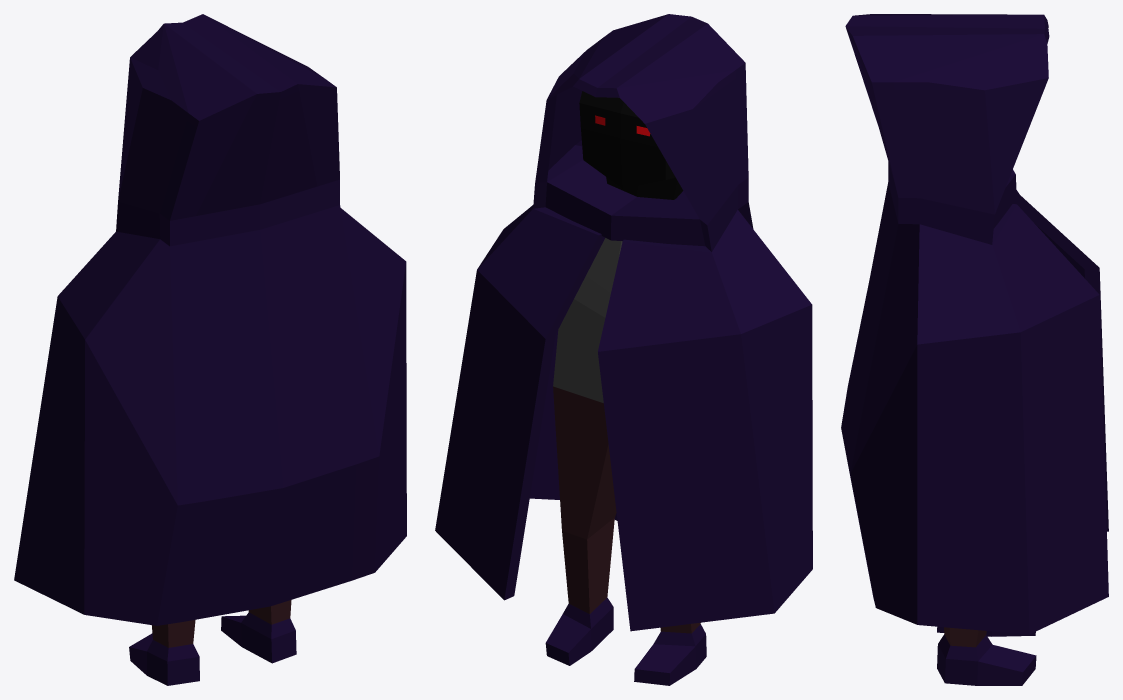
Rendered from malky 1 half open stuff .fbx.
3 views of the same model, side by side, from view 1: azimuth 30°, elevation 25°; view 2: azimuth 150°, elevation 25°; view 3: azimuth 270°, elevation 25° (orthographic). The views are drawn at different scales.
Visible parts, largest first — view 1: Cube; view 2: Cube; view 3: Cube.
Boxes of the visible parts, <box> form: Cube: <box>14,14,406,685</box>; Cube: <box>435,14,812,685</box>; Cube: <box>841,14,1108,685</box>.
Bounding box in the file's own units: 367 × 615 × 237.
